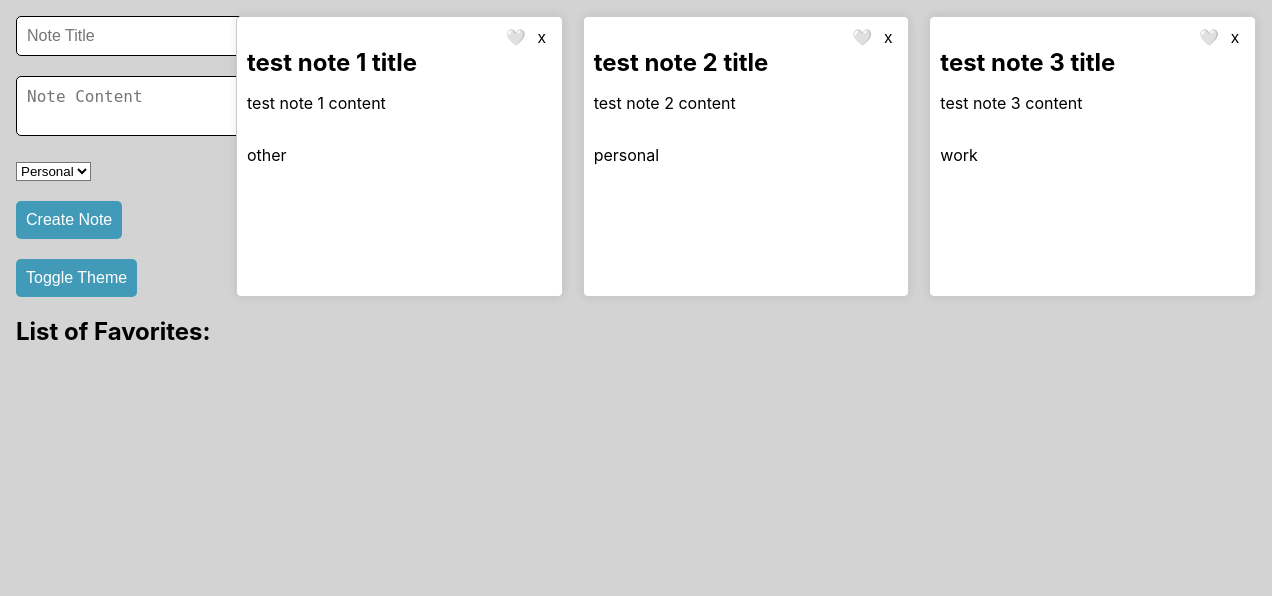
Test: update notes › add note then update that note, then delete that note
Type "HELLO BOB" into the field with placeholder "Note Title" at (130, 36), box [16,16,245,56]
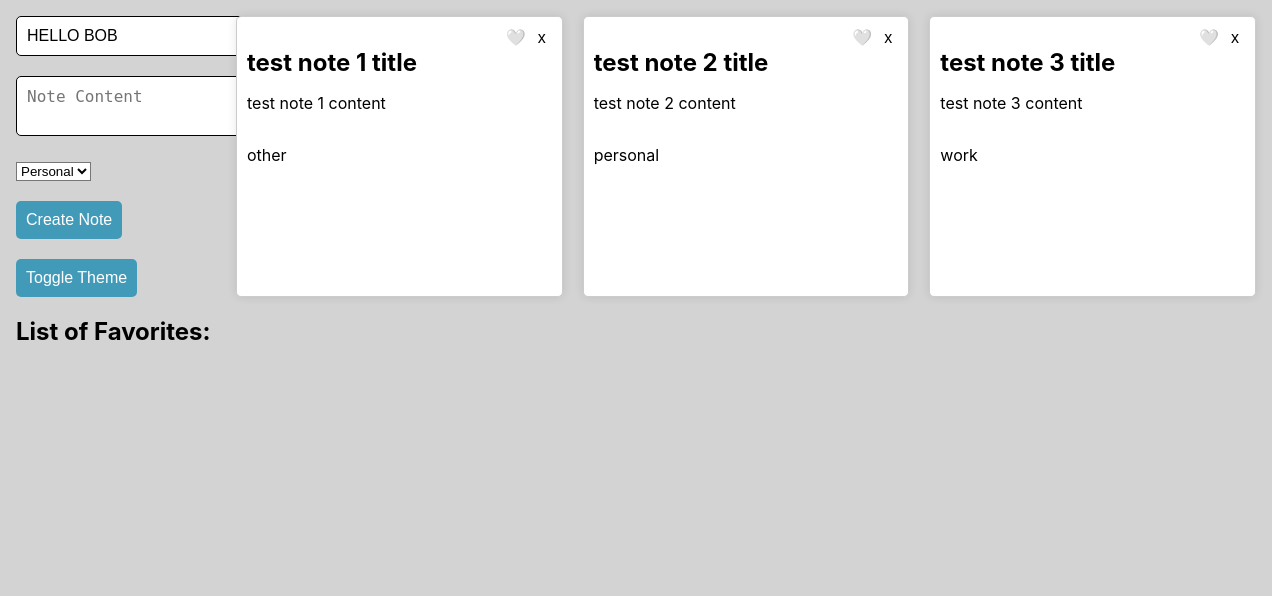
Type "IM JOE" into the text box with placeholder "Note Content" at (134, 106), box [16,76,253,136]
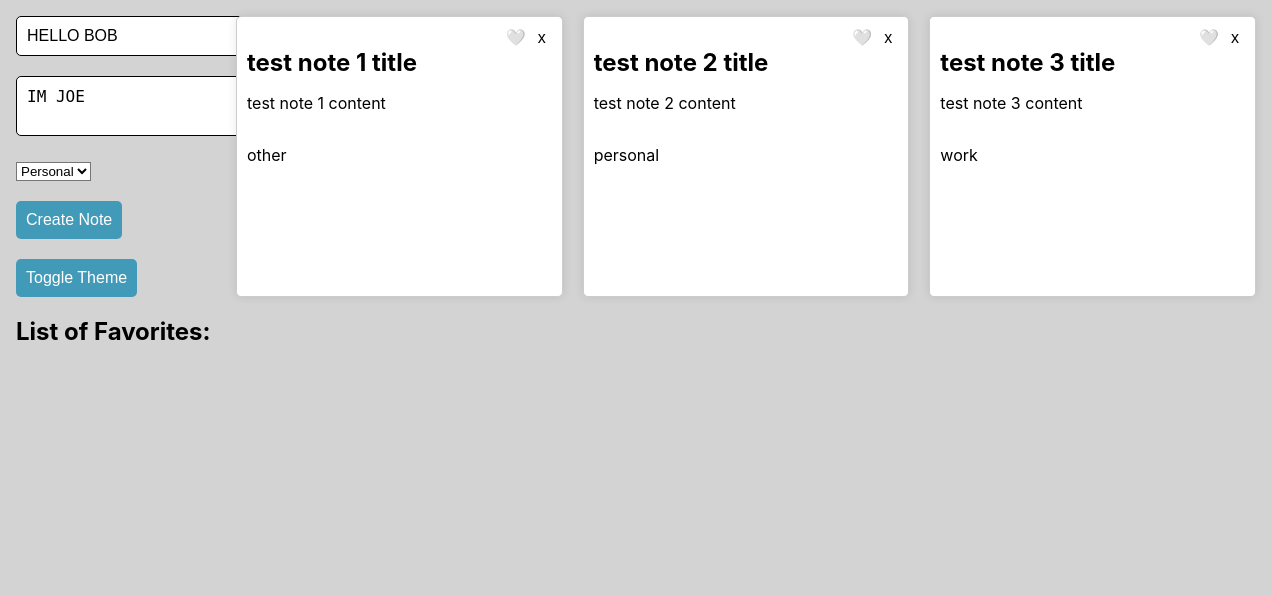
Click the button "Create Note" at (69, 220), box [16,201,122,239]
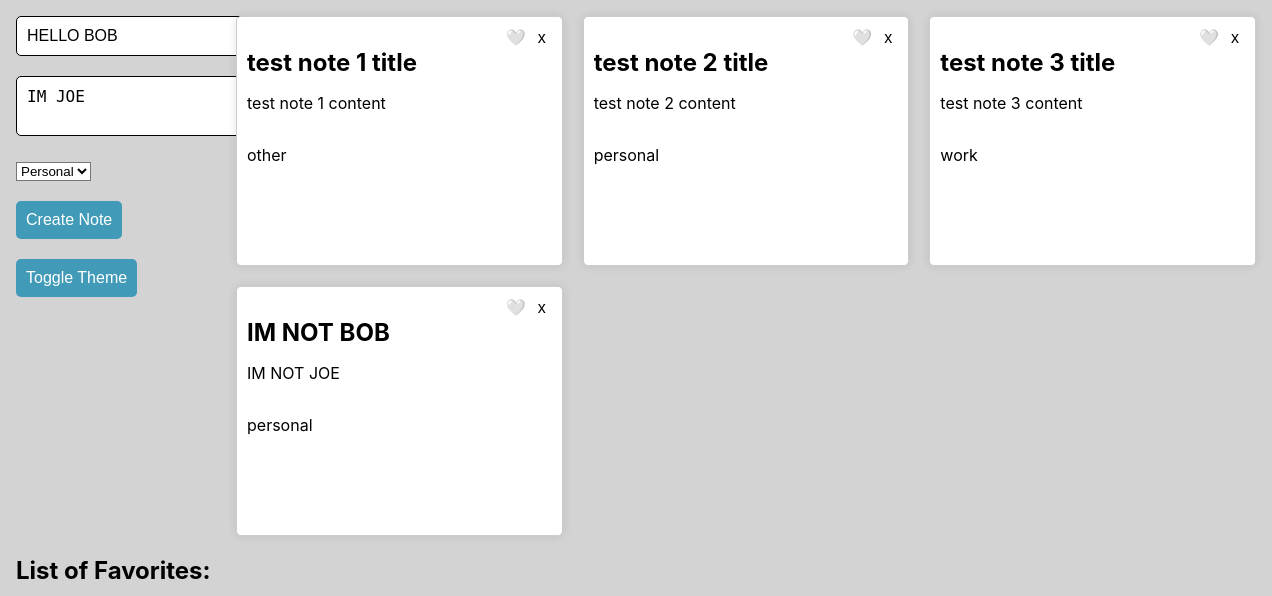
Expected: the heading with test id "title 4" reads "IM NOT BOB", [247,318,390,347]
Expected: the text box with test id "content 4" reads "IM NOT JOE", [247,363,340,383]
Click the 4th button "x" at (542, 308), box [532,297,552,318]
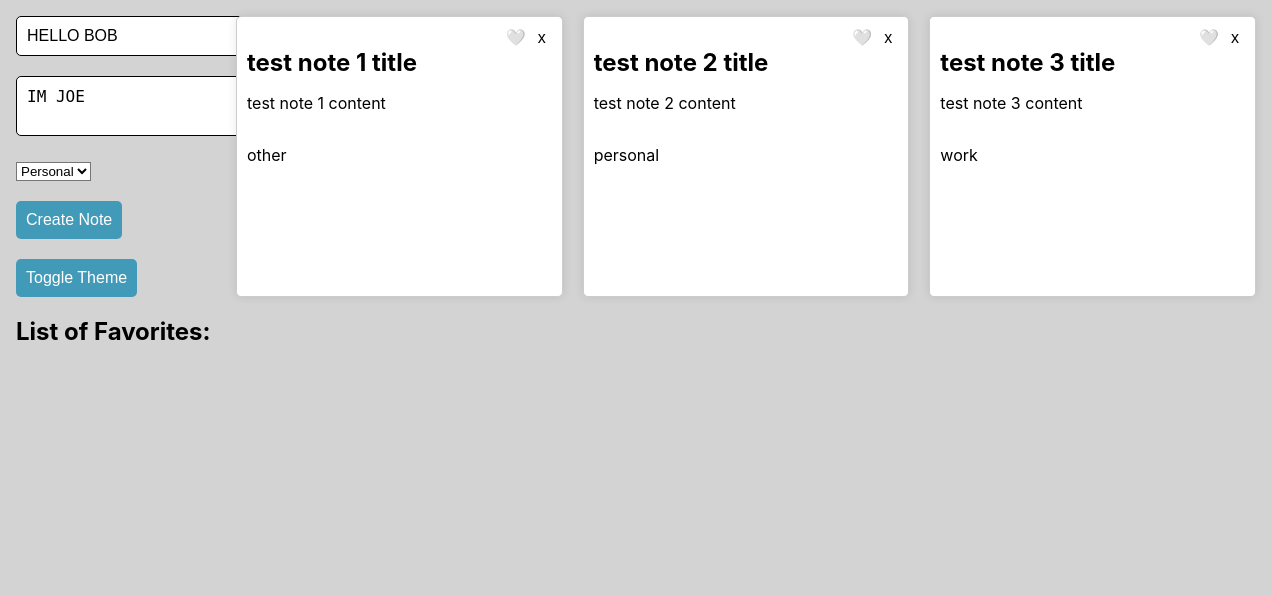
Expected: the heading "IM NOT BOB" is gone
Expected: the text box "IM NOT JOE" is gone
